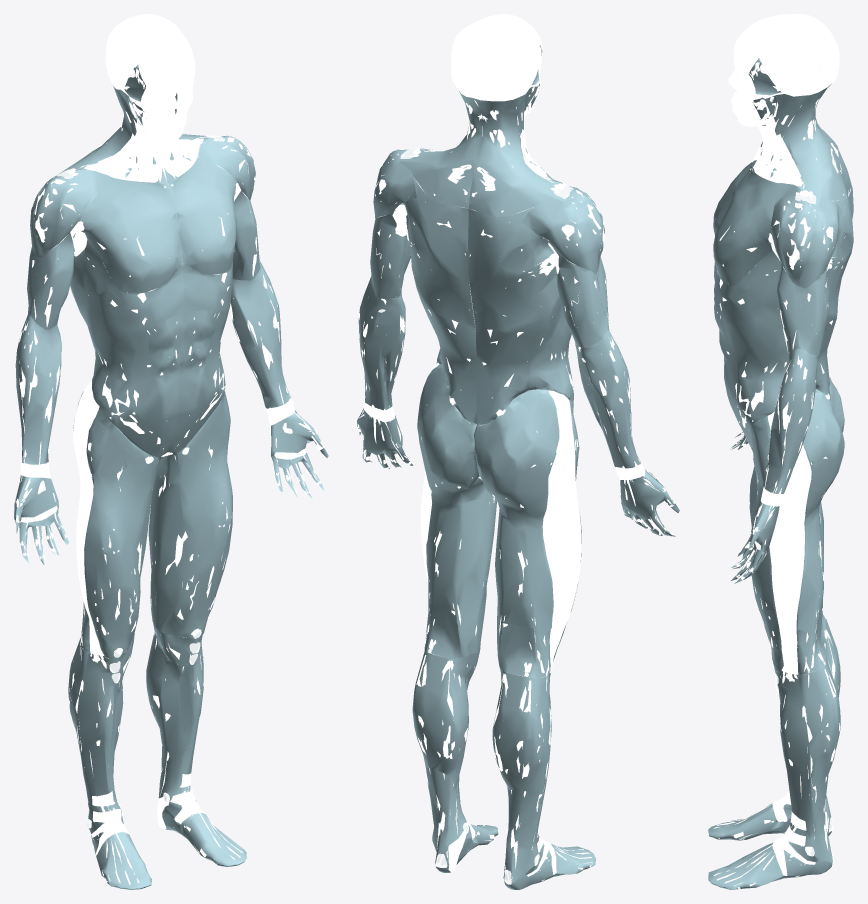
The model's file is cardiovascular.lod1.glb.
3 renders of one model, left to right at view 1: azimuth 30°, elevation 25°; view 2: azimuth 150°, elevation 25°; view 3: azimuth 270°, elevation 25°, orthographic. The views are drawn at different scales.
Parts seen in each view (by area): view 1: Investing abdominal fascia.r, Fascia lata.l, Fascia lata.r, Crural fascia.l, Crural fascia.r, Pectoral fascia.r, Investing abdominal fascia.l, Pectoral fascia.l, Antebrachial fascia.r, Antebrachial fascia.l, Deltoid fascia.r, Iliotibial tract.r (+14 smaller); view 2: Investing abdominal fascia.r, Fascia lata.r, Fascia lata.l, Crural fascia.r, Investing abdominal fascia.l, Crural fascia.l, Superficial investing cervical fascia.r, Iliotibial tract.r, Antebrachial fascia.r, Antebrachial fascia.l, Deltoid fascia.r, Superficial investing cervical fascia.l (+11 smaller); view 3: Investing abdominal fascia.l, Crural fascia.l, Fascia lata.l, Iliotibial tract.l, Pectoral fascia.l, Deltoid fascia.l, Superficial investing cervical fascia.l, Antebrachial fascia.l, Brachial fascia.l, Epicranial aponeurosis.l, Crural fascia.r, Temporoparietalis muscle.l (+16 smaller).
Part boxes in pixels (x1,y1,x2,y2): Investing abdominal fascia.r: (70, 239, 184, 457); Fascia lata.l: (148, 391, 232, 638); Fascia lata.r: (73, 391, 162, 658); Crural fascia.l: (146, 622, 246, 866); Crural fascia.r: (68, 639, 151, 889); Pectoral fascia.r: (78, 179, 182, 294); Investing abdominal fascia.l: (168, 262, 232, 452); Pectoral fascia.l: (167, 158, 237, 274); Antebrachial fascia.r: (15, 315, 61, 464); Antebrachial fascia.l: (230, 261, 291, 408); Deltoid fascia.r: (30, 170, 113, 257); Iliotibial tract.r: (73, 381, 106, 668); Investing abdominal fascia.r: (467, 206, 573, 424); Fascia lata.r: (474, 389, 581, 677); Fascia lata.l: (417, 364, 496, 657); Crural fascia.r: (492, 666, 595, 889); Investing abdominal fascia.l: (401, 177, 476, 424); Crural fascia.l: (412, 650, 498, 872); Superficial investing cervical fascia.r: (468, 86, 570, 216); Iliotibial tract.r: (542, 390, 581, 675); Antebrachial fascia.r: (575, 330, 640, 468); Antebrachial fascia.l: (358, 276, 405, 410); Deltoid fascia.r: (521, 173, 604, 274); Superficial investing cervical fascia.l: (399, 91, 482, 208); Investing abdominal fascia.l: (714, 195, 853, 448); Crural fascia.l: (708, 656, 840, 889); Fascia lata.l: (750, 389, 844, 674); Iliotibial tract.l: (767, 411, 811, 683); Pectoral fascia.l: (713, 171, 775, 285); Deltoid fascia.l: (770, 183, 842, 288); Superficial investing cervical fascia.l: (751, 84, 847, 205); Antebrachial fascia.l: (764, 348, 819, 493); Brachial fascia.l: (777, 261, 829, 357); Epicranial aponeurosis.l: (737, 18, 839, 77); Crural fascia.r: (708, 619, 840, 840); Temporoparietalis muscle.l: (758, 46, 820, 96).
Bounding box in the file's own units: 0.6707 × 1.7 × 0.2672.
